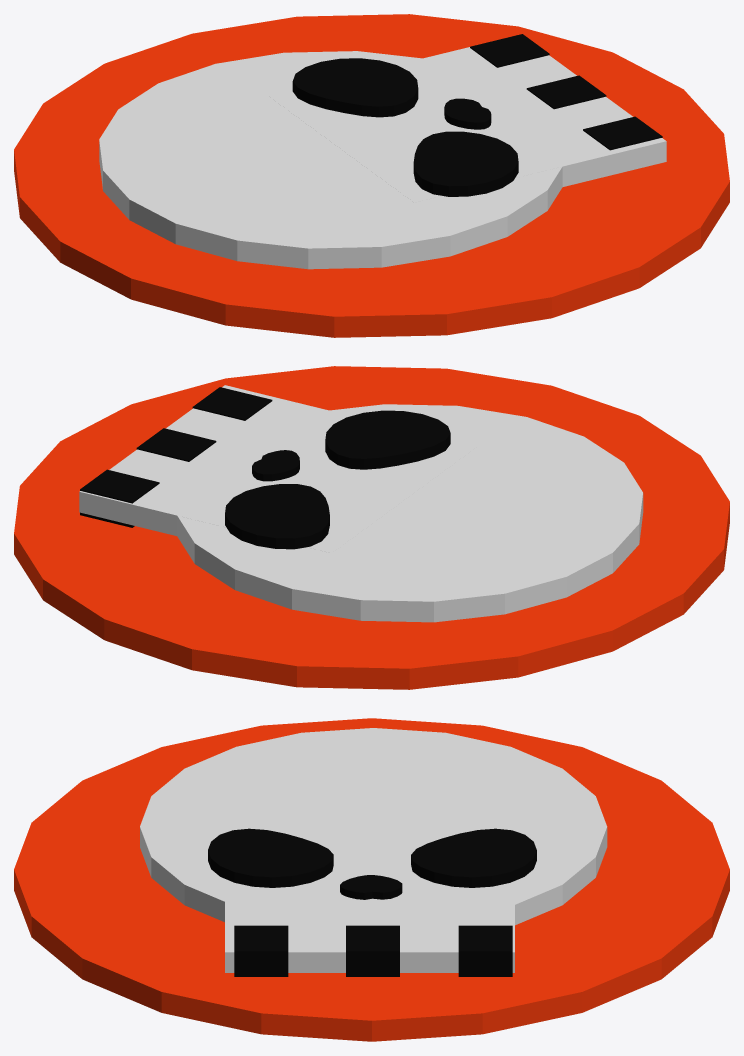
Rendered from skull2.fbx.
The picture shows the model from 3 angles, top to bottom: view 1: azimuth 30°, elevation 25°; view 2: azimuth 150°, elevation 25°; view 3: azimuth 270°, elevation 25°; orthographic projection.
Visible parts, largest first — view 1: Cylinder.042; view 2: Cylinder.042; view 3: Cylinder.042.
Part boxes in pixels (box(x1,y1,x2,y2)): Cylinder.042: box(14, 14, 729, 337); Cylinder.042: box(14, 366, 729, 689); Cylinder.042: box(14, 718, 729, 1041).
Size of the model in its own units: 494 by 42.62 by 494.
